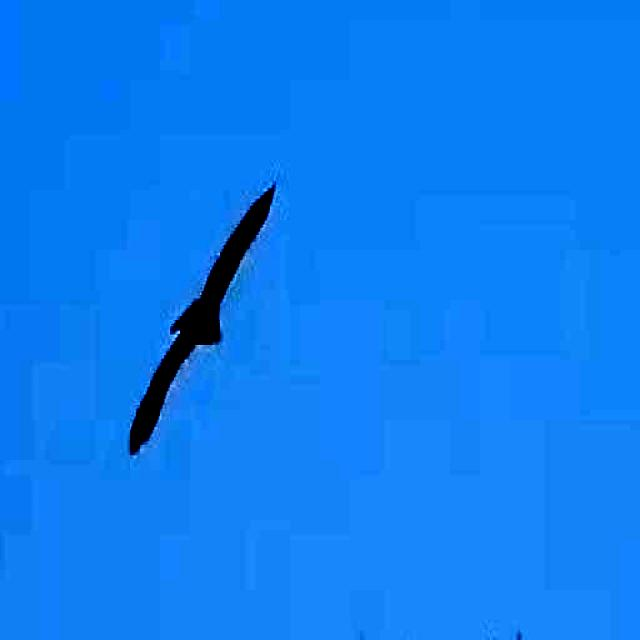airplane: (105, 184, 291, 474)
